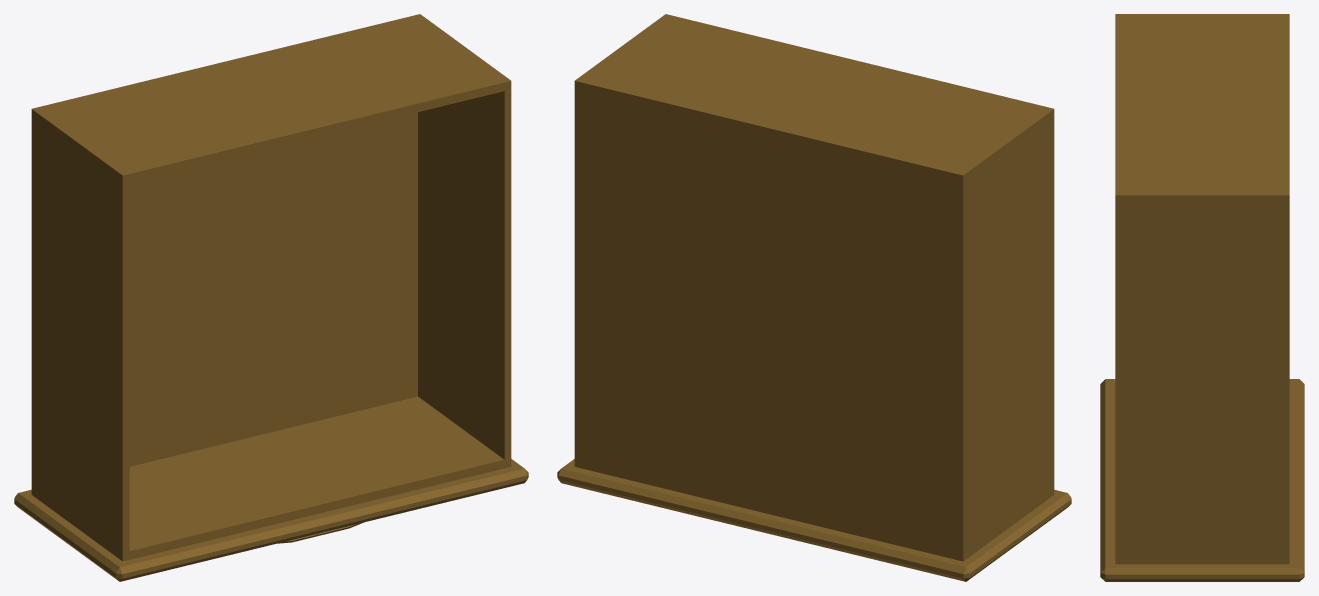
Rendered from MeshDeskDrawer_313_2_2.obj.
3 views of the same model, side by side, from view 1: azimuth 30°, elevation 25°; view 2: azimuth 150°, elevation 25°; view 3: azimuth 270°, elevation 25° (orthographic). The views are drawn at different scales.
Parts seen in each view (by area): view 1: DeskDrawer_313_2; view 2: DeskDrawer_313_2; view 3: DeskDrawer_313_2.
Part boxes in pixels (x1,y1,x2,y2): DeskDrawer_313_2: (14,14,528,581); DeskDrawer_313_2: (557,14,1071,581); DeskDrawer_313_2: (1100,14,1304,581).
Size of the model in its own units: 0.4231 by 0.4083 by 0.1894.
